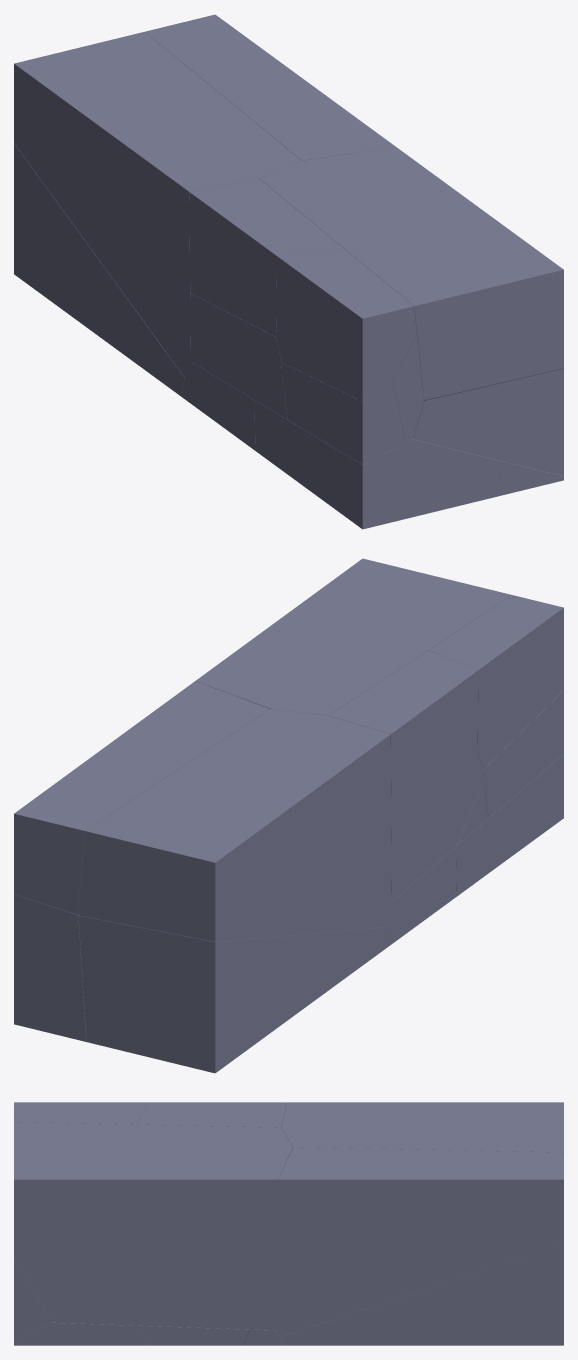
The model's file is DestroyedAccentBrick.fbx.
The picture shows the model from 3 angles, top to bottom: view 1: azimuth 30°, elevation 25°; view 2: azimuth 150°, elevation 25°; view 3: azimuth 270°, elevation 25°; orthographic projection. The views are drawn at different scales.
Visible parts, largest first — view 1: AccentBrick.001_cell.004, AccentBrick.001_cell.002, AccentBrick.001_cell.006_cell.003, AccentBrick.001_cell.007_cell, AccentBrick.001_cell, AccentBrick.001_cell.006_cell.006, AccentBrick.001_cell.005, AccentBrick.001_cell.003, AccentBrick.001_cell.006_cell.005, AccentBrick.001_cell.006_cell.002, AccentBrick.001_cell.007_cell.005, AccentBrick.001_cell.006_cell.007 (+2 smaller); view 2: AccentBrick.001_cell.004, AccentBrick.001_cell.005, AccentBrick.001_cell.002, AccentBrick.001_cell, AccentBrick.001_cell.006_cell.006, AccentBrick.001_cell.006_cell.003, AccentBrick.001_cell.001, AccentBrick.001_cell.007_cell, AccentBrick.001_cell.006_cell.002, AccentBrick.001_cell.006_cell.005, AccentBrick.001_cell.007_cell.005, AccentBrick.001_cell.006_cell.001; view 3: AccentBrick.001_cell.002, AccentBrick.001_cell, AccentBrick.001_cell.001, AccentBrick.001_cell.004, AccentBrick.001_cell.006_cell.006, AccentBrick.001_cell.006_cell.003, AccentBrick.001_cell.007_cell.003, AccentBrick.001_cell.007_cell.004, AccentBrick.001_cell.003, AccentBrick.001_cell.007_cell.001.
Boxes of the visible parts, box(x1,y1,x2,y2) form: AccentBrick.001_cell.004: box(14, 32, 301, 376); AccentBrick.001_cell.002: box(259, 147, 563, 402); AccentBrick.001_cell.006_cell.003: box(276, 248, 416, 401); AccentBrick.001_cell.007_cell: box(254, 400, 505, 529); AccentBrick.001_cell: box(145, 14, 396, 160); AccentBrick.001_cell.006_cell.006: box(189, 179, 342, 336); AccentBrick.001_cell.005: box(14, 143, 184, 396); AccentBrick.001_cell.003: box(413, 368, 563, 476); AccentBrick.001_cell.006_cell.005: box(281, 362, 405, 464); AccentBrick.001_cell.006_cell.002: box(190, 293, 281, 399); AccentBrick.001_cell.007_cell.005: box(182, 362, 255, 448); AccentBrick.001_cell.006_cell.007: box(392, 335, 423, 442); AccentBrick.001_cell.004: box(78, 709, 391, 941); AccentBrick.001_cell.005: box(78, 915, 385, 1073); AccentBrick.001_cell.002: box(196, 558, 511, 715); AccentBrick.001_cell: box(14, 681, 269, 914); AccentBrick.001_cell.006_cell.006: box(329, 650, 478, 833); AccentBrick.001_cell.006_cell.003: box(428, 596, 563, 769); AccentBrick.001_cell.001: box(14, 894, 86, 1041); AccentBrick.001_cell.007_cell: box(456, 754, 563, 896); AccentBrick.001_cell.006_cell.002: box(391, 753, 483, 901); AccentBrick.001_cell.006_cell.005: box(483, 691, 563, 817); AccentBrick.001_cell.007_cell.005: box(383, 847, 456, 949); AccentBrick.001_cell.006_cell.001: box(457, 782, 488, 845); AccentBrick.001_cell.002: box(14, 1122, 292, 1330); AccentBrick.001_cell: box(275, 1147, 563, 1336); AccentBrick.001_cell.001: box(280, 1243, 563, 1345); AccentBrick.001_cell.004: box(281, 1102, 563, 1152); AccentBrick.001_cell.006_cell.006: box(136, 1102, 286, 1127); AccentBrick.001_cell.006_cell.003: box(14, 1102, 148, 1124); AccentBrick.001_cell.007_cell.003: box(14, 1322, 145, 1345); AccentBrick.001_cell.007_cell.004: box(142, 1325, 249, 1345); AccentBrick.001_cell.003: box(14, 1258, 51, 1342); AccentBrick.001_cell.007_cell.001: box(244, 1329, 281, 1345).
Bounding box in the file's own units: 200 × 200 × 600.
